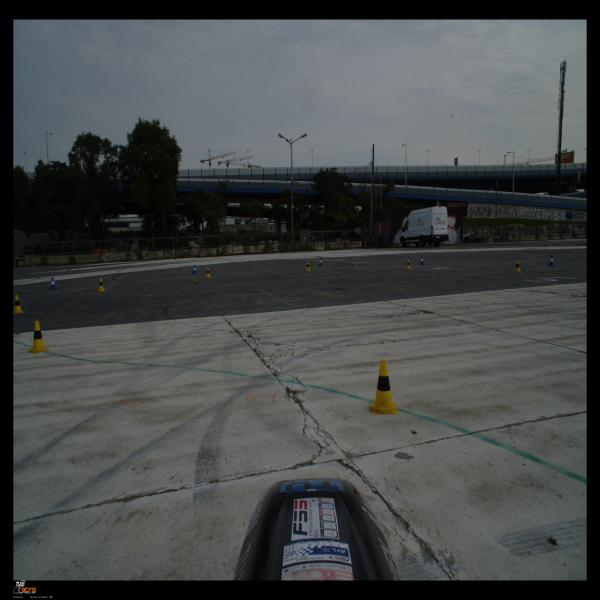blue_cone: (49, 278, 57, 290), (548, 255, 556, 266), (192, 265, 198, 274), (419, 256, 425, 265), (318, 258, 323, 266)
yellow_cone: (369, 359, 398, 415), (27, 320, 50, 353), (13, 295, 25, 314), (97, 278, 106, 292), (513, 260, 522, 273), (405, 259, 412, 270), (205, 267, 211, 278), (305, 261, 311, 272)
